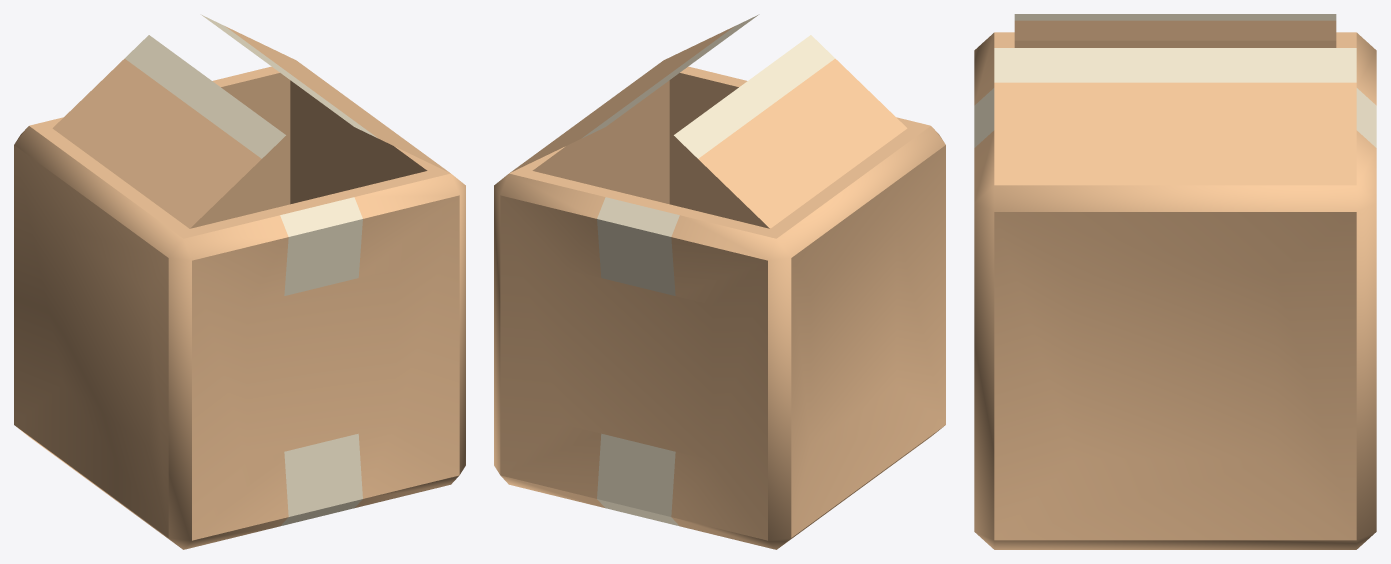
The picture shows the model from 3 angles, left to right: view 1: azimuth 30°, elevation 25°; view 2: azimuth 150°, elevation 25°; view 3: azimuth 270°, elevation 25°; orthographic projection. The views are drawn at different scales.
Visible parts, largest first — view 1: boxOpen; view 2: boxOpen; view 3: boxOpen.
Part boxes in pixels (left/top/right/bottom): boxOpen: left=14, top=14, right=465, bottom=549; boxOpen: left=494, top=14, right=945, bottom=549; boxOpen: left=974, top=14, right=1376, bottom=549.
Size of the model in its own units: 0.25 by 0.3062 by 0.25.
